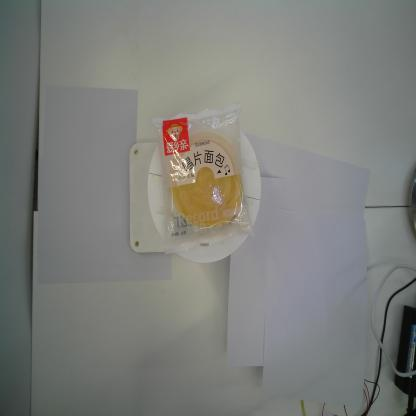Dessert: (151, 103, 255, 256)
